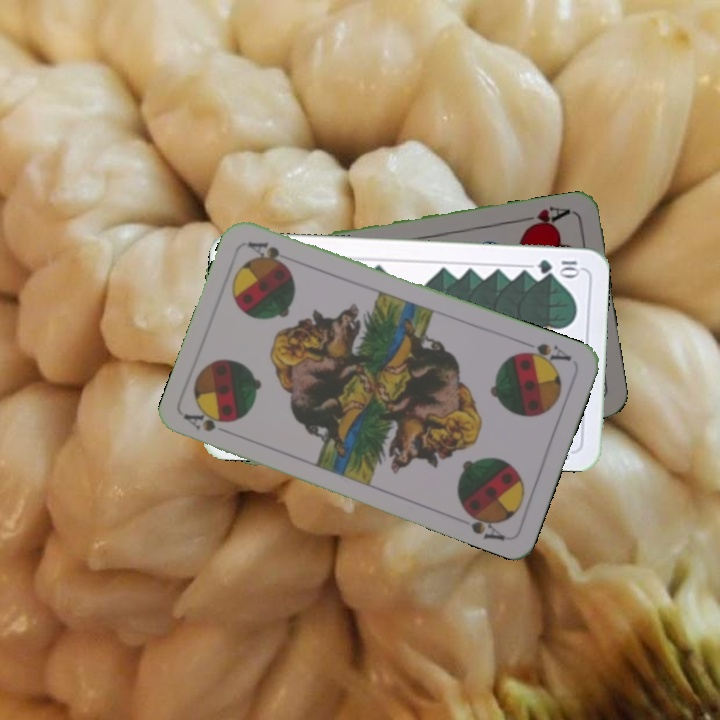G10: (534, 256, 583, 277)
HA: (515, 202, 573, 233)
SA: (515, 337, 574, 369), (181, 408, 233, 435)
